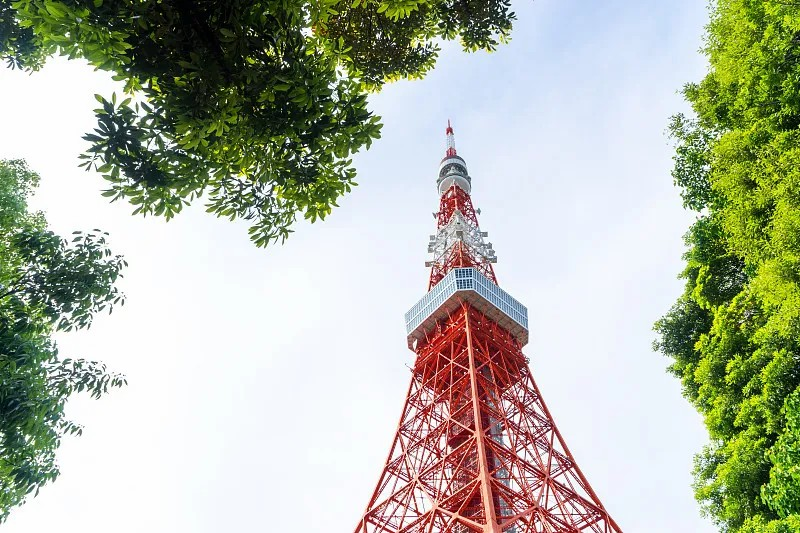Tokyo: (353, 106, 624, 532)
